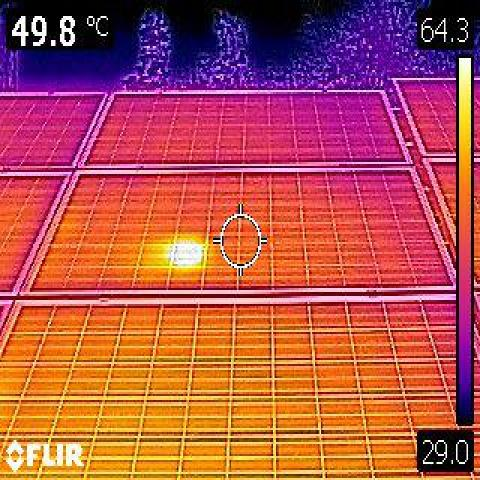fault: (176, 243, 203, 270)
